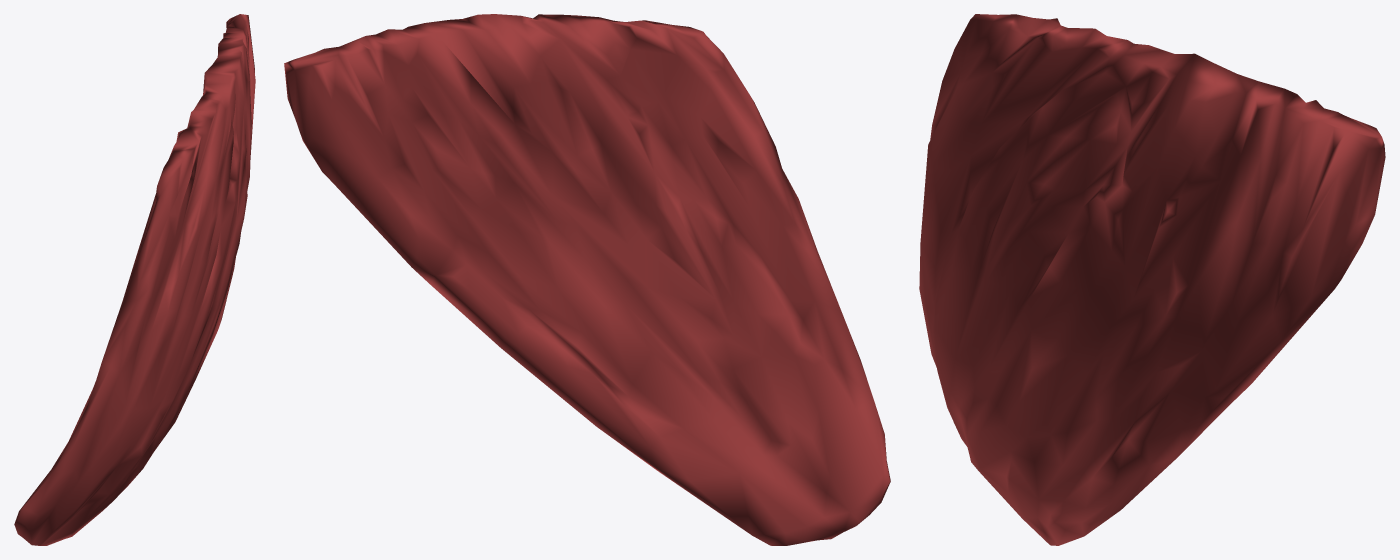
File: straight-part-of-cricothyroid-muscle-l.glb
3 views of the same model, side by side, from view 1: azimuth 30°, elevation 25°; view 2: azimuth 150°, elevation 25°; view 3: azimuth 270°, elevation 25° (orthographic). The views are drawn at different scales.
Parts seen in each view (by area): view 1: Straight part of cricothyroid muscle.l; view 2: Straight part of cricothyroid muscle.l; view 3: Straight part of cricothyroid muscle.l.
Boxes of the visible parts, box(x1,y1,x2,y2) form: Straight part of cricothyroid muscle.l: box(14, 14, 255, 545); Straight part of cricothyroid muscle.l: box(284, 14, 890, 545); Straight part of cricothyroid muscle.l: box(919, 14, 1385, 545).
Size of the model in its own units: 0.00973 by 0.0103 by 0.00685.
